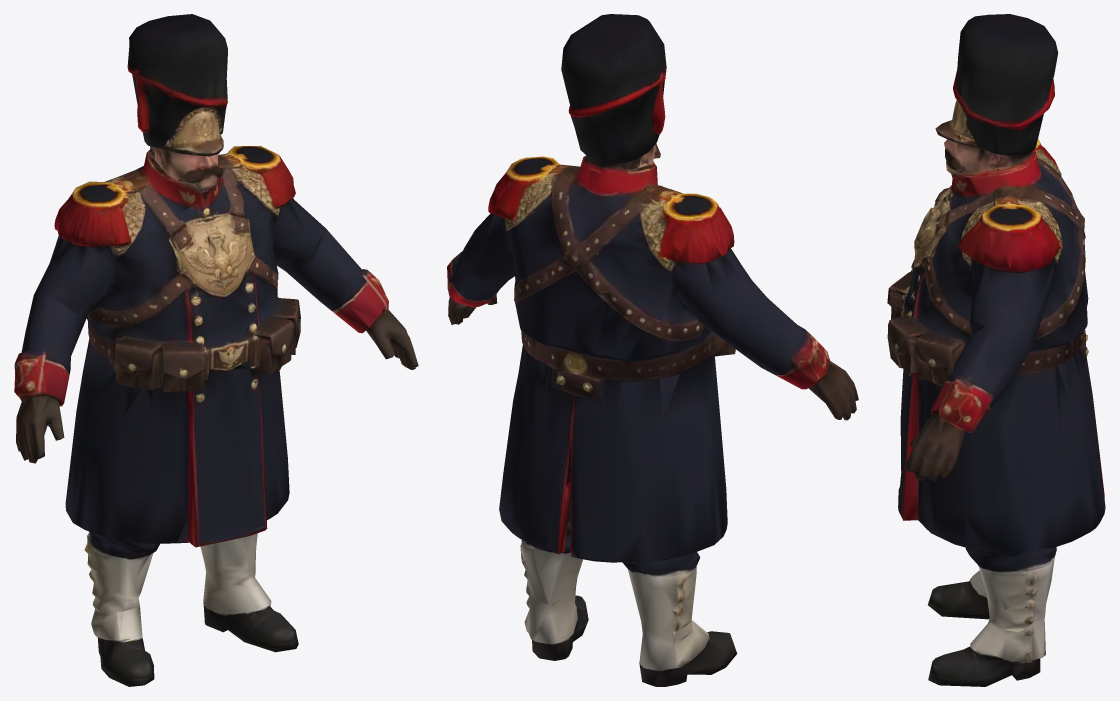
The model's file is 044ccbd8-c9d3-452e-8524-4a47034b8fe2.glb.
3 renders of one model, left to right at view 1: azimuth 30°, elevation 25°; view 2: azimuth 150°, elevation 25°; view 3: azimuth 270°, elevation 25°, orthographic. The views are drawn at different scales.
Parts seen in each view (by area): view 1: Mesh_0; view 2: Mesh_0; view 3: Mesh_0.
Boxes of the visible parts, <box> form: Mesh_0: <box>14,14,418,686</box>; Mesh_0: <box>447,14,858,686</box>; Mesh_0: <box>887,14,1105,686</box>.
Bounding box in the file's own units: 1.14 × 1.75 × 0.5564.
Materials: 1 (1 with a texture image).
